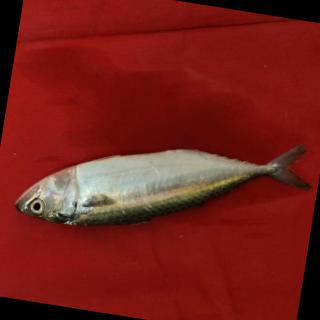Ikan: (5, 88, 320, 269)
